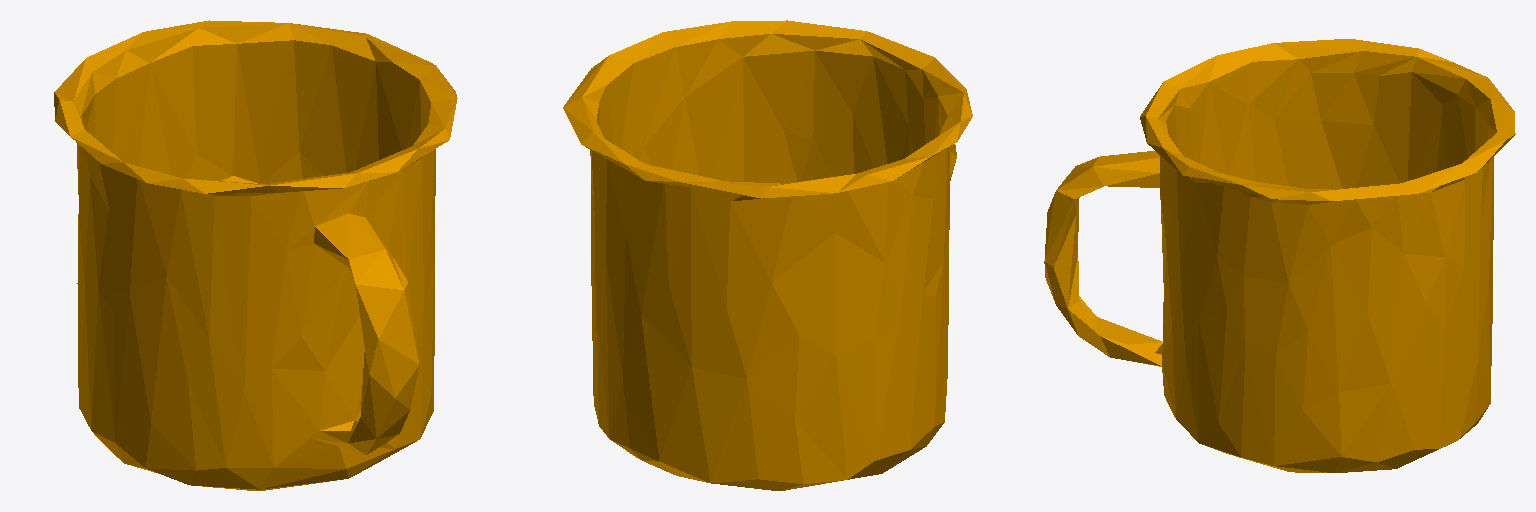
robot.urdf — obj_1:
<?xml version="1.0"?>
<robot name="obj_1">
  <link name="obj_1">
    <visual>
      <origin xyz="0.0 0.0 0.0" rpy="0 0 0"/>
      <geometry>
        <mesh filename="../mesh/ncf_mug_cupholder/obj_assets/1/obj_collision.obj" scale="1 1 1"/>
      </geometry>
    </visual>
    <collision>
      <origin xyz="0.0 0.0 0.0" rpy="0 0 0"/>
      <geometry>
        <mesh filename="../mesh/ncf_mug_cupholder/obj_assets/1/obj_collision.obj" scale="1 1 1"/>
      </geometry>
      <sdf resolution="512"/>
    </collision >    
    <inertial>
      <mass value="0.102"/>
      <inertia ixx="0.0001" ixy="0.0" ixz="0.0" iyy="0.0001" iyz="0.0" izz="0.0001"/>
    </inertial>
  </link>
</robot>

--- Render facts (derived) ---
The picture shows the robot from 3 angles, left to right: view 1: azimuth 30°, elevation 25°; view 2: azimuth 150°, elevation 25°; view 3: azimuth 270°, elevation 25°; orthographic projection.
Model obj_1 with 1 links and 0 joints (none), rooted at obj_1, posed every joint at zero.
Visible links, largest first — view 1: obj_1; view 2: obj_1; view 3: obj_1.
Boxes of the visible links, x1,y1,x2,y2 form: obj_1: [54, 20, 457, 490]; obj_1: [563, 20, 972, 490]; obj_1: [1044, 39, 1515, 472].
Bounding box of the posed robot: 0.083 × 0.1043 × 0.0732 m (x, y, z).
1 mesh visuals loaded from 1 distinct referenced files (1 OBJ).